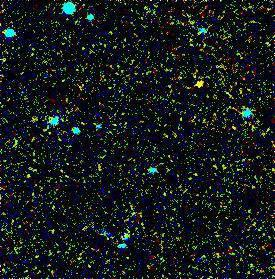star: (187, 68, 217, 98)
